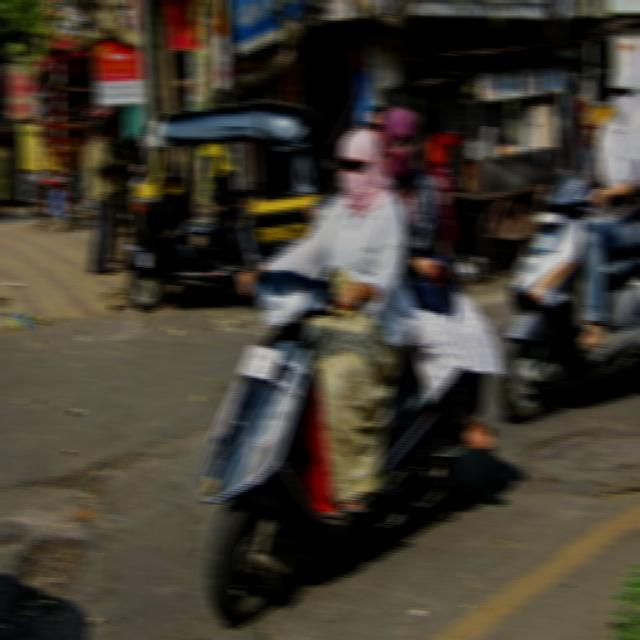Without Helmet: (332, 129, 388, 199), (601, 58, 640, 111)
